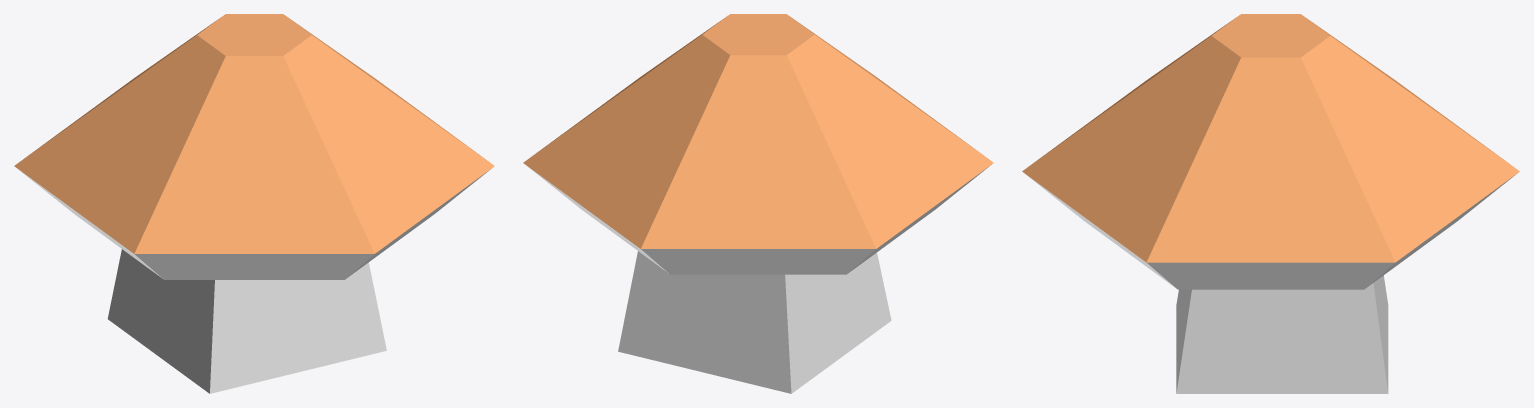
File: d_kenney_champignon_brun.glb
The picture shows the model from 3 angles, left to right: view 1: azimuth 30°, elevation 25°; view 2: azimuth 150°, elevation 25°; view 3: azimuth 270°, elevation 25°; orthographic projection. The views are drawn at different scales.
Visible parts, largest first — view 1: d_kenney_champignon_brun; view 2: d_kenney_champignon_brun; view 3: d_kenney_champignon_brun.
Boxes of the visible parts, x1,y1,x2,y2 form: d_kenney_champignon_brun: [14, 14, 494, 393]; d_kenney_champignon_brun: [523, 14, 993, 393]; d_kenney_champignon_brun: [1022, 14, 1519, 393].
Size of the model in its own units: 0.1914 by 0.1539 by 0.221.
Materials: 1 (1 with a texture image).
